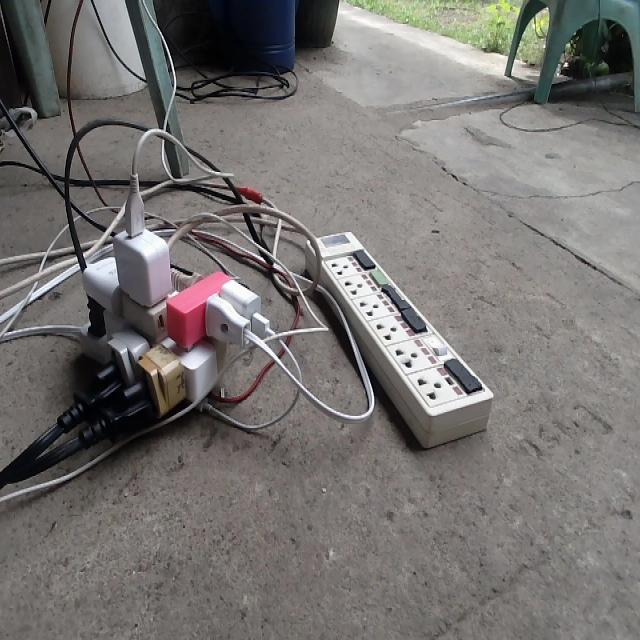-: (55, 161, 278, 452)
